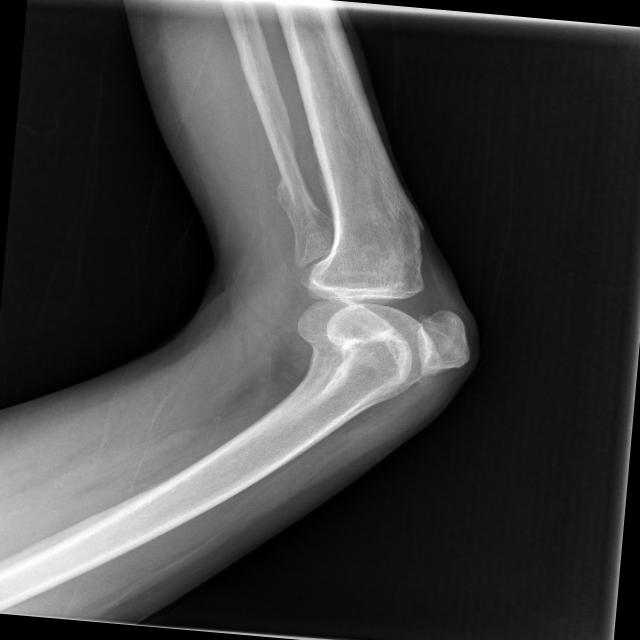Knee: (290, 211, 483, 387)
